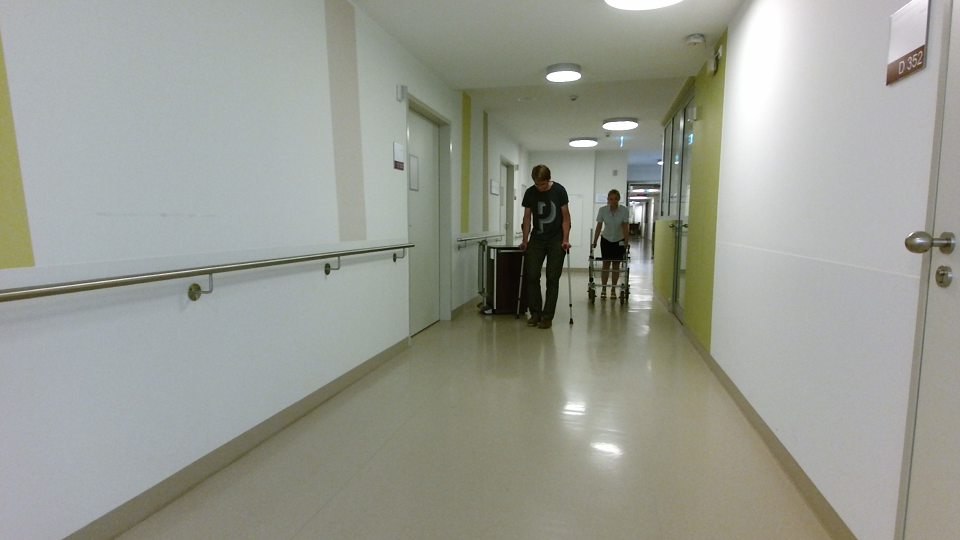crutches: (508, 163, 579, 328)
